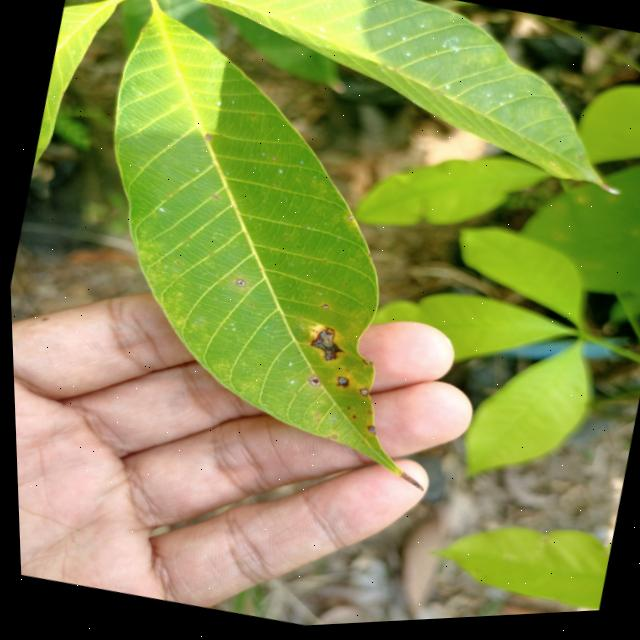Colletotrichum: (304, 377, 318, 389), (355, 389, 366, 400), (232, 279, 244, 289), (203, 133, 212, 142), (318, 305, 327, 312), (270, 158, 275, 163), (246, 304, 250, 307)
